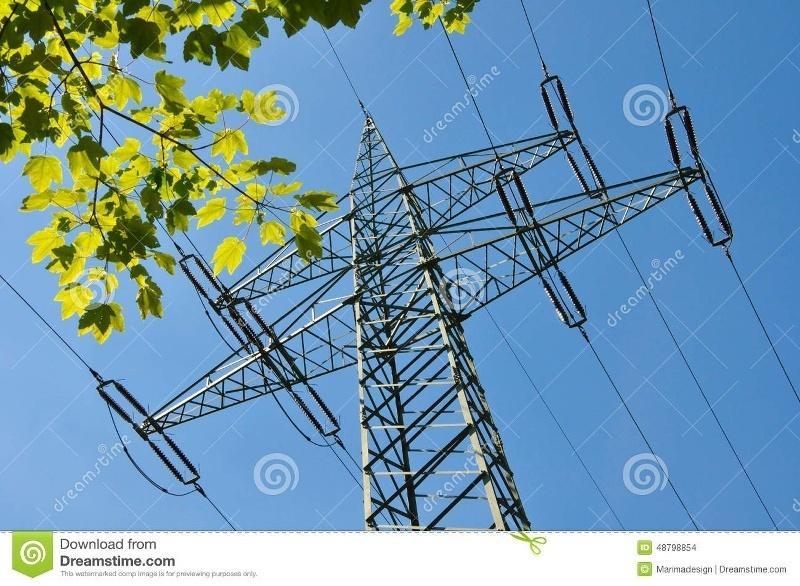power_tower: (204, 134, 617, 516)
